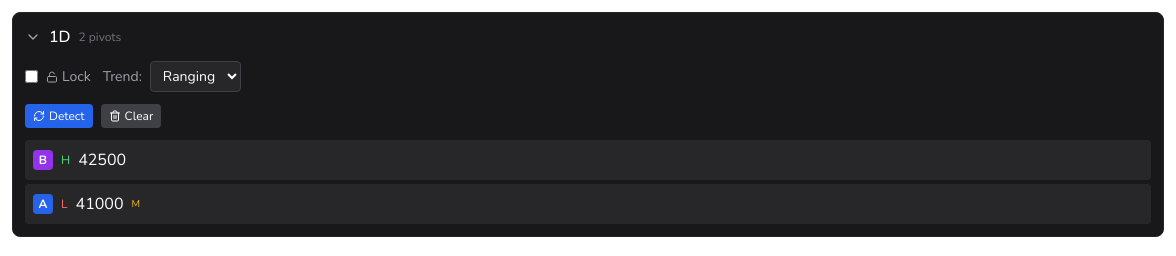
Scenario: PivotSettingsPanel › price editing › should allow editing pivot price
Note: Click on price to enter edit mode
Step 1. Click the button "42500" → (102,160), box [78,148,126,172]
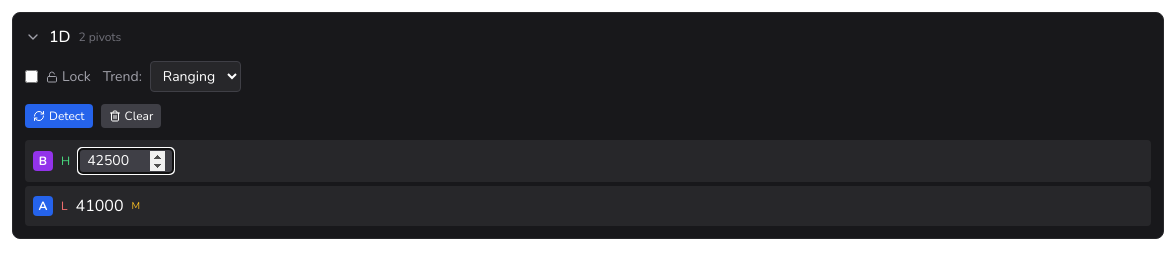
Check: the number field is shown, box [78,148,174,174]
